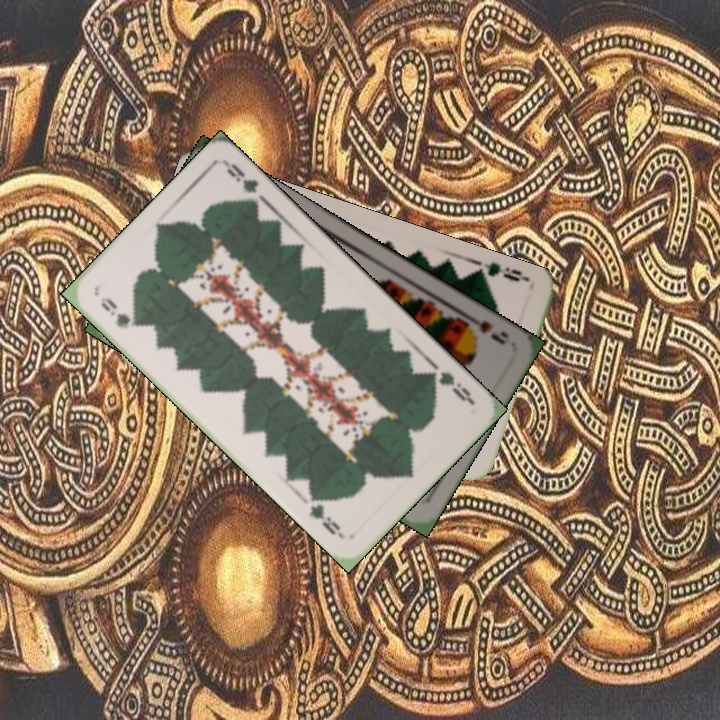G9: (423, 367, 477, 407), (96, 293, 142, 332), (474, 257, 532, 285)
S9: (458, 309, 512, 347)
